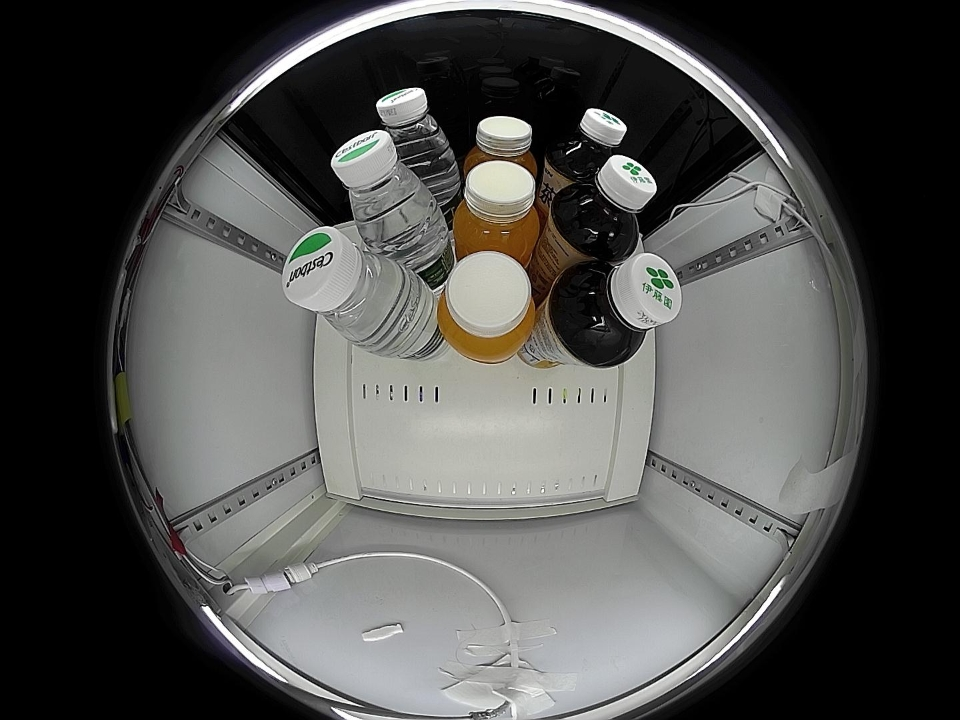damaicha: (552, 253, 683, 366), (551, 154, 657, 258), (546, 107, 627, 181)
weic: (437, 251, 537, 363), (452, 160, 543, 262), (463, 116, 538, 182)
yibao: (282, 227, 415, 352), (331, 131, 438, 243), (375, 87, 452, 166)
